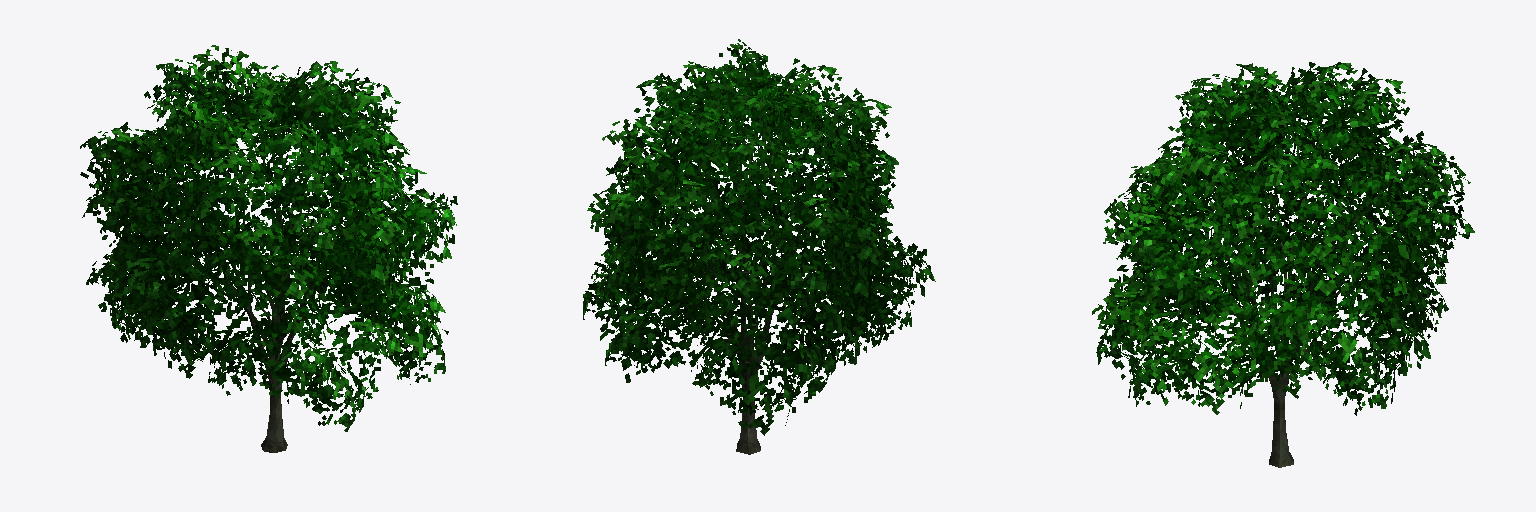
3 views of the same model, side by side, from view 1: azimuth 30°, elevation 25°; view 2: azimuth 150°, elevation 25°; view 3: azimuth 270°, elevation 25° (orthographic).
Parts seen in each view (by area): view 1: AM113_062_Tilia01; view 2: AM113_062_Tilia01; view 3: AM113_062_Tilia01.
Boxes of the visible parts, box(x1,y1,x2,y2) form: AM113_062_Tilia01: box(80, 45, 457, 452); AM113_062_Tilia01: box(583, 39, 935, 454); AM113_062_Tilia01: box(1092, 62, 1474, 467).
Size of the model in its own units: 799 by 941 by 856.
Materials: 1 (1 with a texture image).